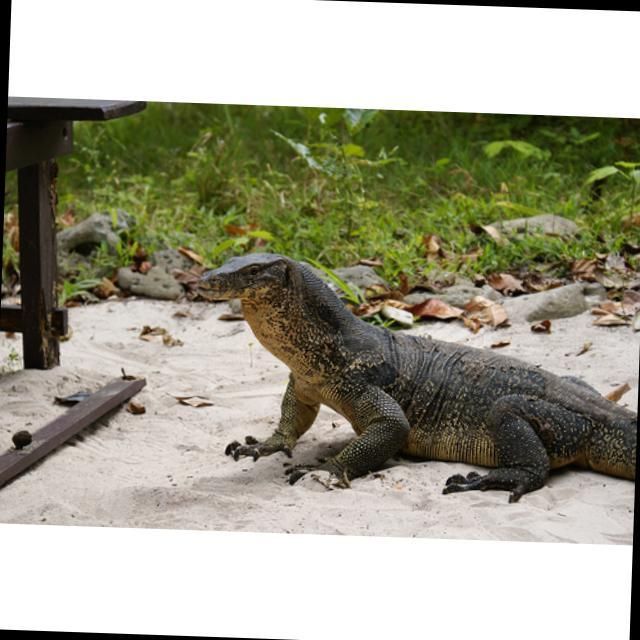KomodoDragon: (181, 246, 640, 509)
